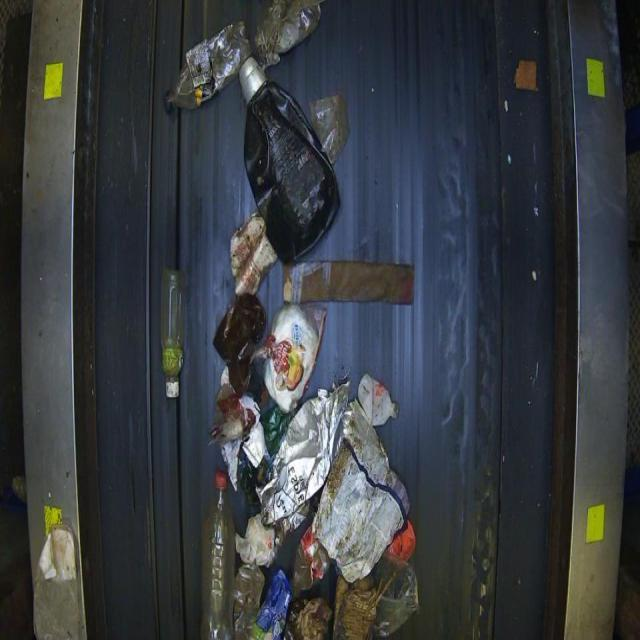bottles: (199, 469, 236, 639)
cups: (159, 267, 186, 398)
other-trash: (166, 1, 422, 638)
